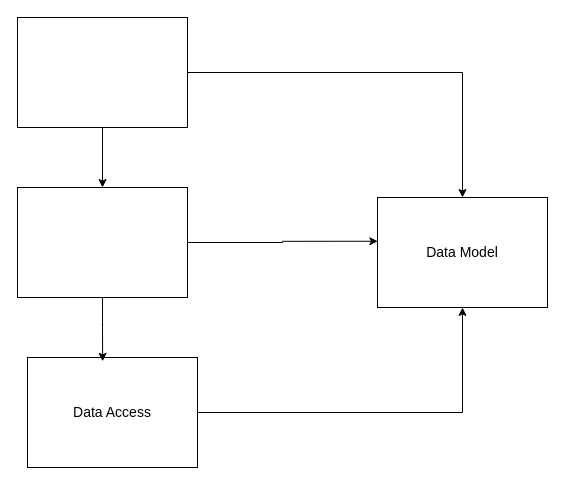
The diagram is 565 pixels wide and 485 high, and some of its shapes have lost their labels. The centre of each missing label's shape, as x and y in pixels:
"Busniess Logic" belongs at pixel 102 242.
"Grapichal User Interface" belongs at pixel 102 72.
